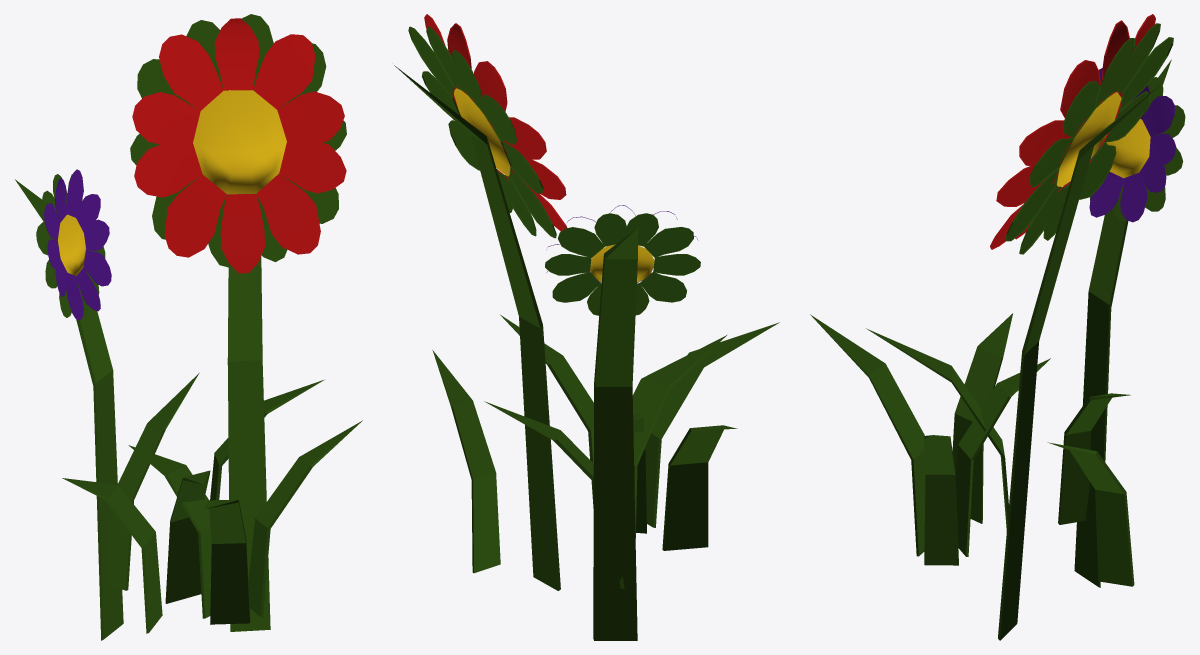
Rendered from flower5_long.FBX.
3 renders of one model, left to right at view 1: azimuth 30°, elevation 25°; view 2: azimuth 150°, elevation 25°; view 3: azimuth 270°, elevation 25°, orthographic. The views are drawn at different scales.
Parts seen in each view (by area): view 1: flowerRedLong; view 2: flowerRedLong; view 3: flowerRedLong.
Boxes of the visible parts, x1,y1,x2,y2 form: flowerRedLong: [15, 14, 362, 640]; flowerRedLong: [394, 14, 779, 640]; flowerRedLong: [810, 14, 1185, 640].
Bounding box in the file's own units: 25.64 × 47.51 × 25.58.
